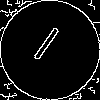I: (25, 25, 63, 70)
